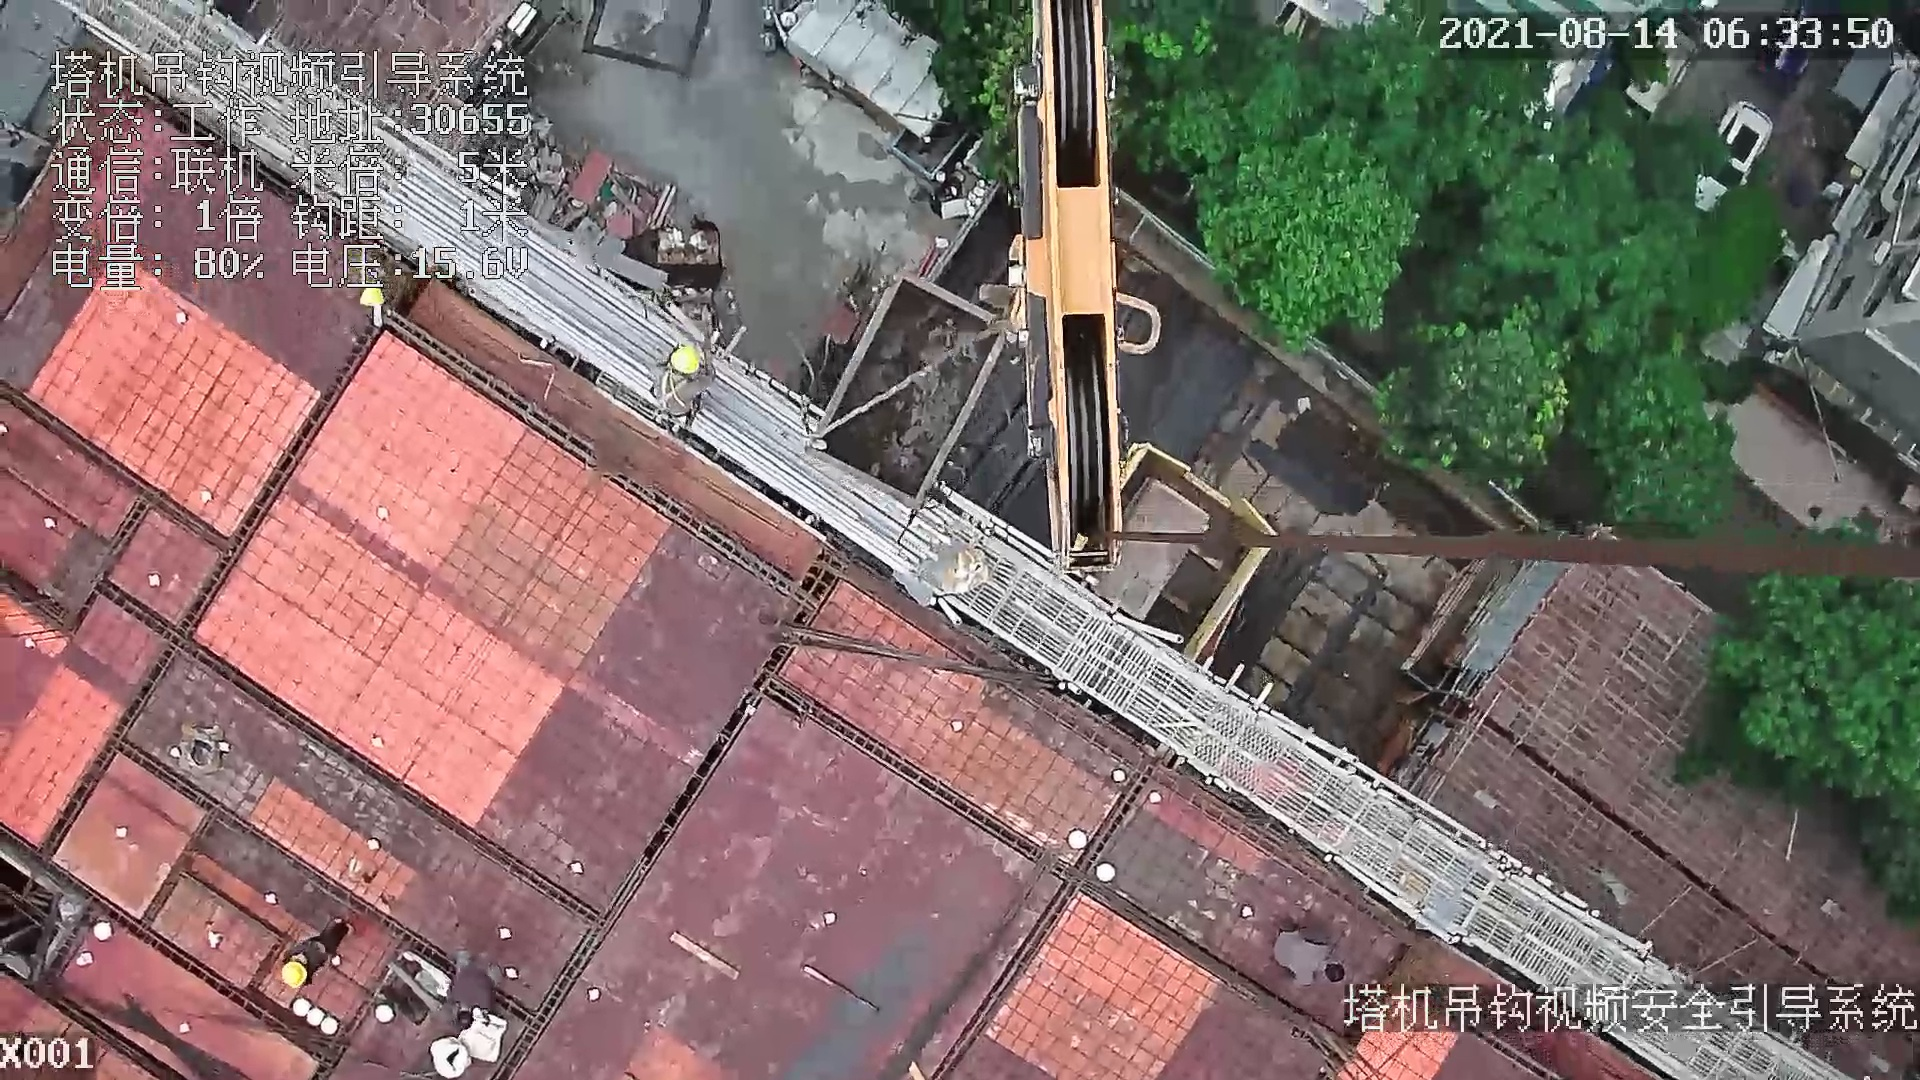helmet: (669, 347, 709, 377), (281, 954, 313, 991)
hook: (1006, 4, 1163, 572)
hopper: (810, 278, 1018, 523)
person: (647, 337, 722, 433), (1272, 913, 1351, 996), (279, 913, 351, 992)
